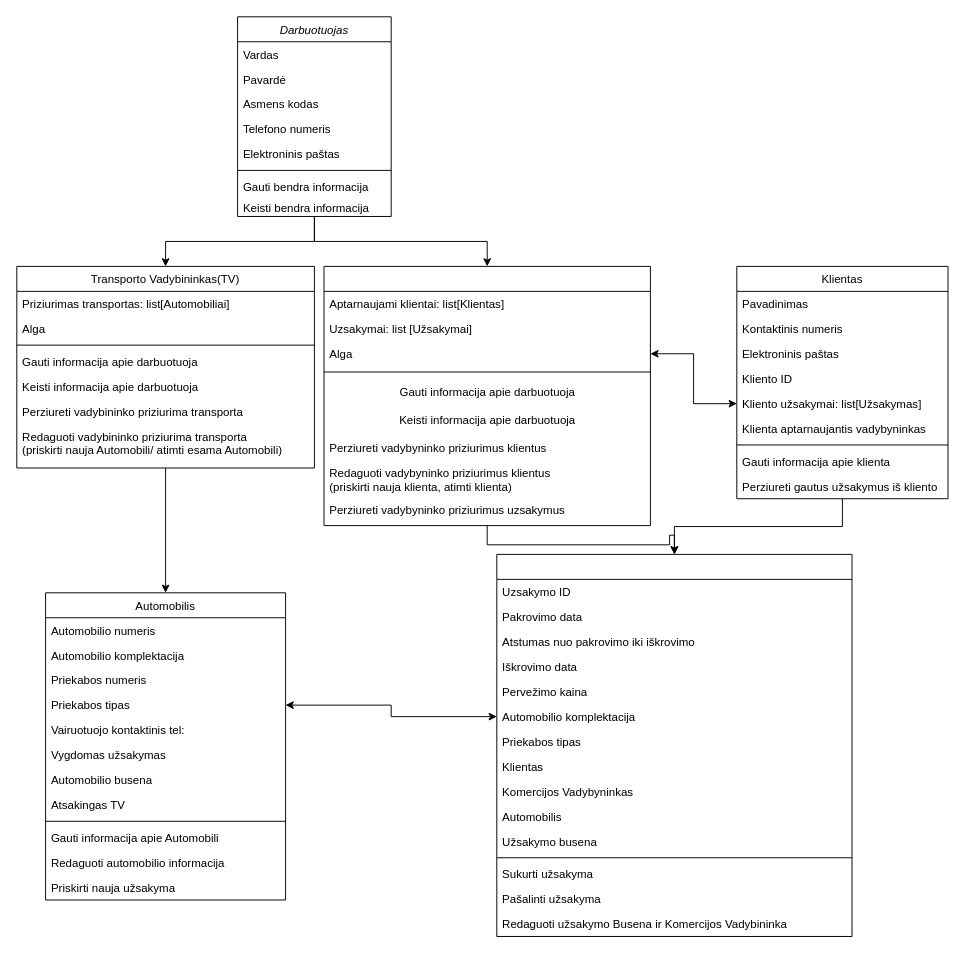
Some shapes in this 965 by 956 pixel diagram are drawn without their labels. Here are the shapes that lost their labels. From the top down, the box of each, then its label:
(323, 265, 650, 526): Komercijos Vadybininkas (KV)
(496, 553, 852, 936): Užsakymas
